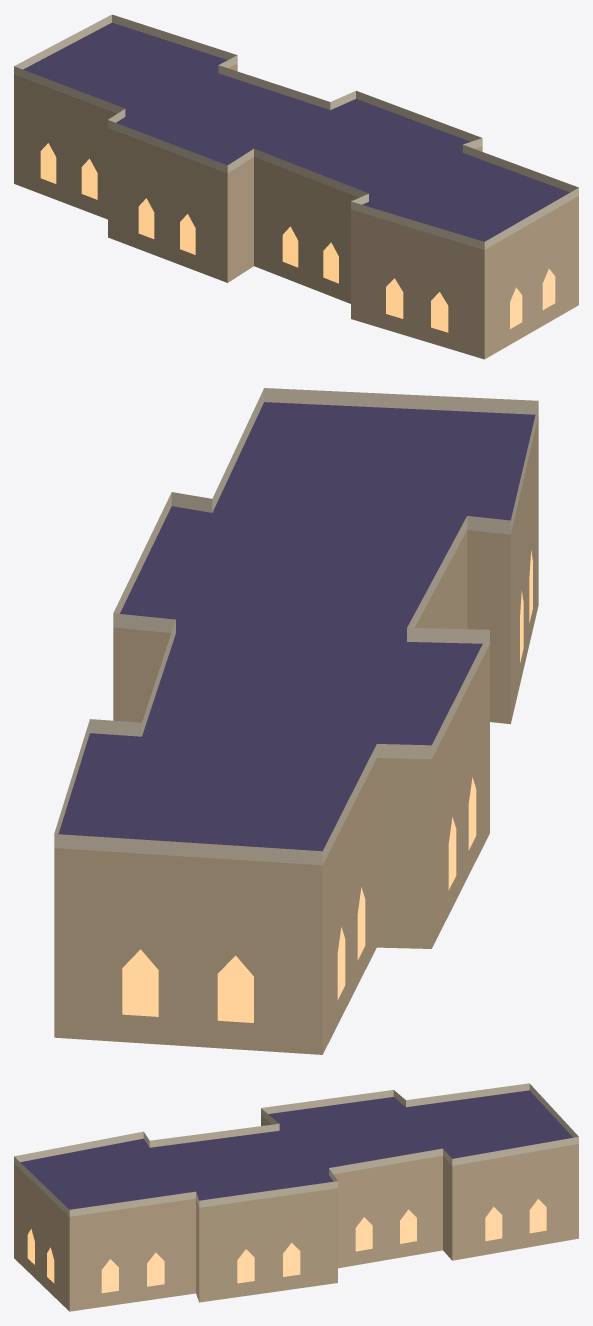
The picture shows the model from 3 angles, top to bottom: view 1: azimuth 30°, elevation 25°; view 2: azimuth 150°, elevation 25°; view 3: azimuth 270°, elevation 25°; orthographic projection. The views are drawn at different scales.
Visible parts, largest first — view 1: campus/b-042-0; view 2: campus/b-042-0; view 3: campus/b-042-0.
Boxes of the visible parts, left/top/right/bottom form: campus/b-042-0: left=14, top=14, right=578, bottom=359; campus/b-042-0: left=54, top=388, right=538, bottom=1054; campus/b-042-0: left=14, top=1083, right=578, bottom=1311.
Bounding box in the file's own units: 21.18 × 7.95 × 39.96.
